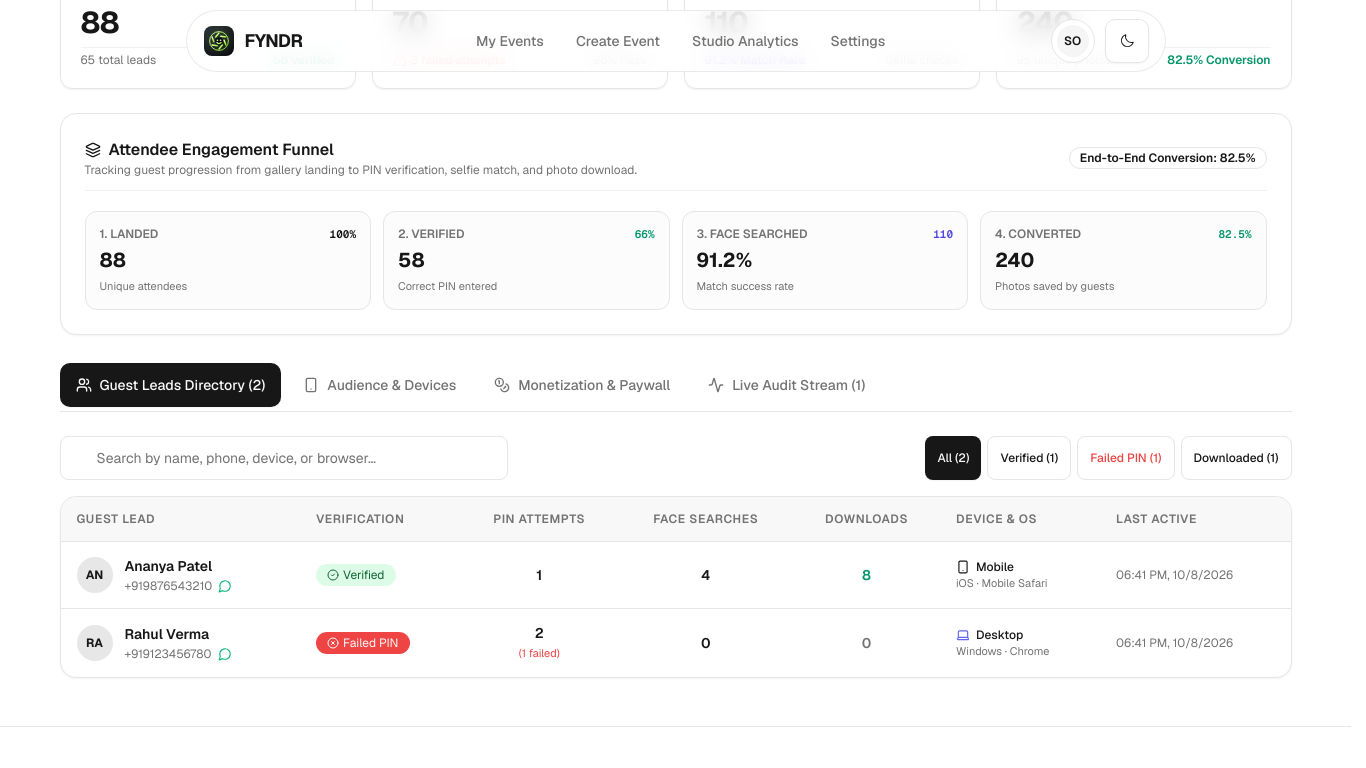
Test: GuestAnalyticsPage › renders comprehensive guest analytics page, KPI metrics, funnel, tabs and guest directory
The width and height of the screenshot is (1366, 768).
(page scrolled)
Expected: the heading "Attendee Engagement Funnel" is shown, [84,139,334,160]
Expected: the text "1. Landed" is shown, [100,226,158,242]
Note: Test tab switching: Audience & Devices
Click the button "Audience & Devices": (380, 384) [287,362,472,406]
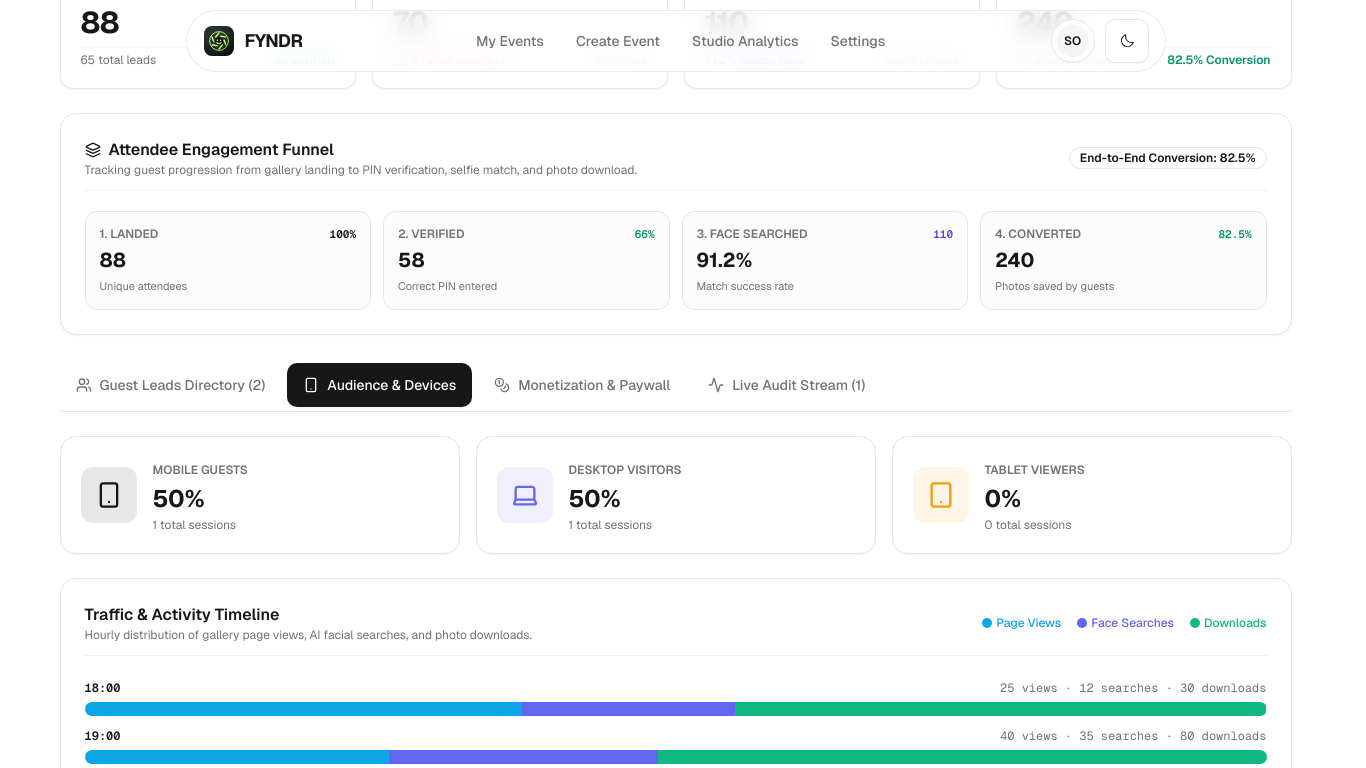
Expected: the heading "Traffic & Activity Timeline" is shown, [84,604,279,624]
Expected: the text "Mobile Guests" is shown, [152,462,248,478]
Note: Test tab switching: Monetization & Paywall
Click the button "Monetization & Paywall": (582, 384) [478,362,686,406]
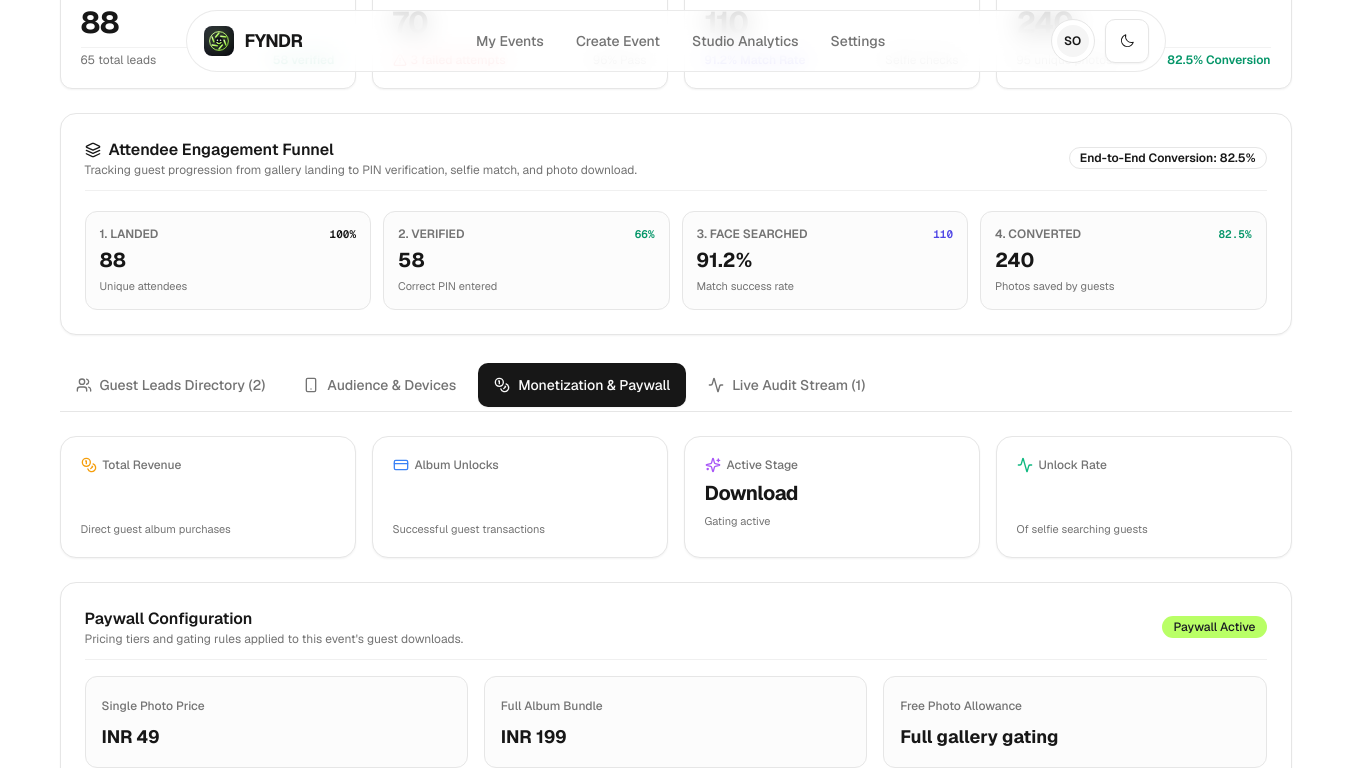
Expected: the heading "Paywall Configuration" is shown, [84,608,252,629]
Note: Test tab switching: Live Audit Stream
Click the button "Live Audit Stream (1)": (787, 384) [692,362,881,406]
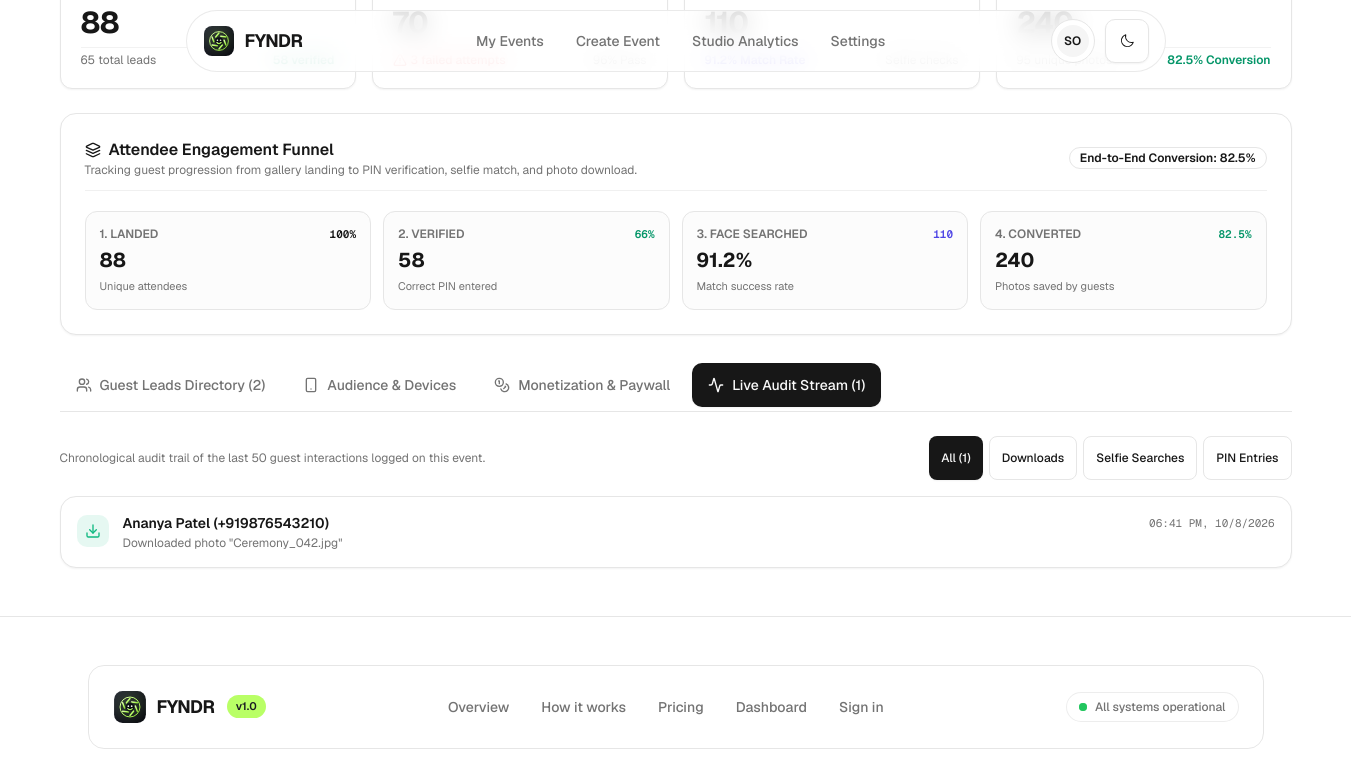
Expected: the text "Downloaded photo \"Ceremony_042.jpg\"" is shown, [122,534,342,550]
